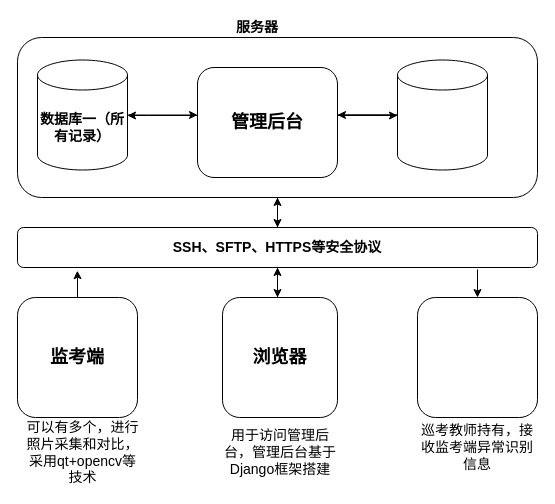
This 555x504 diagram has some shape labels left out. The shapes that lost their labels are listed below. From the top down, each one's centre as x and y in pixels, then its label:
At point 442,114: "数据库二（未通过记录）".
At point 477,357: "巡考端".
